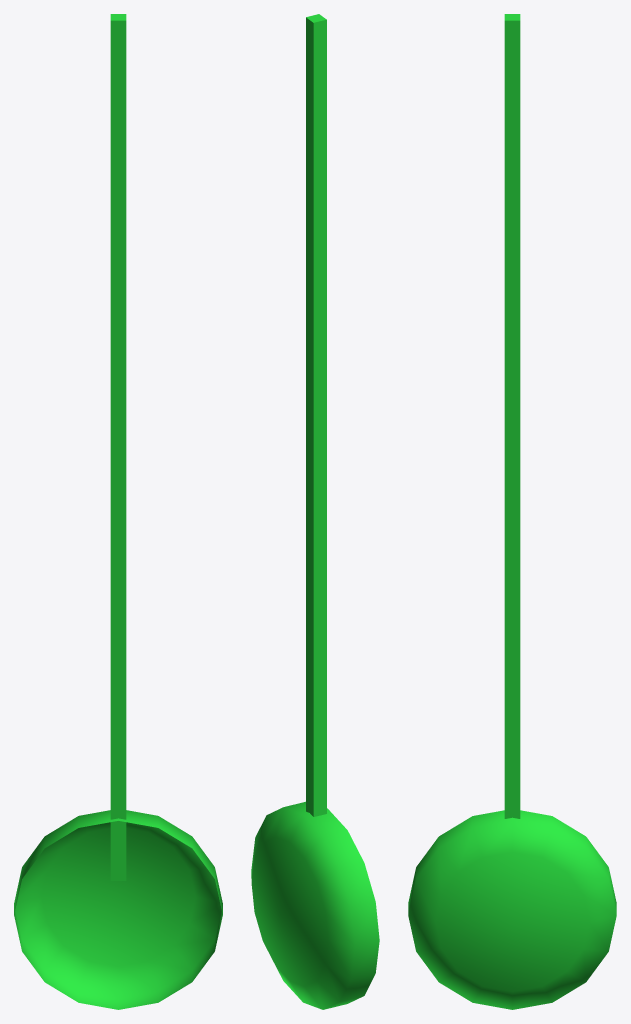
The model's file is Pendulum.fbx.
3 views of the same model, side by side, from view 1: azimuth 90°, elevation 25°; view 2: azimuth 210°, elevation 25°; view 3: azimuth 270°, elevation 25° (orthographic).
Parts seen in each view (by area): view 1: Pendulum; view 2: Pendulum; view 3: Pendulum.
Boxes of the visible parts, x1,y1,x2,y2 form: Pendulum: (14, 14, 222, 1009); Pendulum: (251, 14, 379, 1009); Pendulum: (408, 14, 616, 1009).
Bounding box in the file's own units: 0.0516 × 1.01 × 0.1939.
